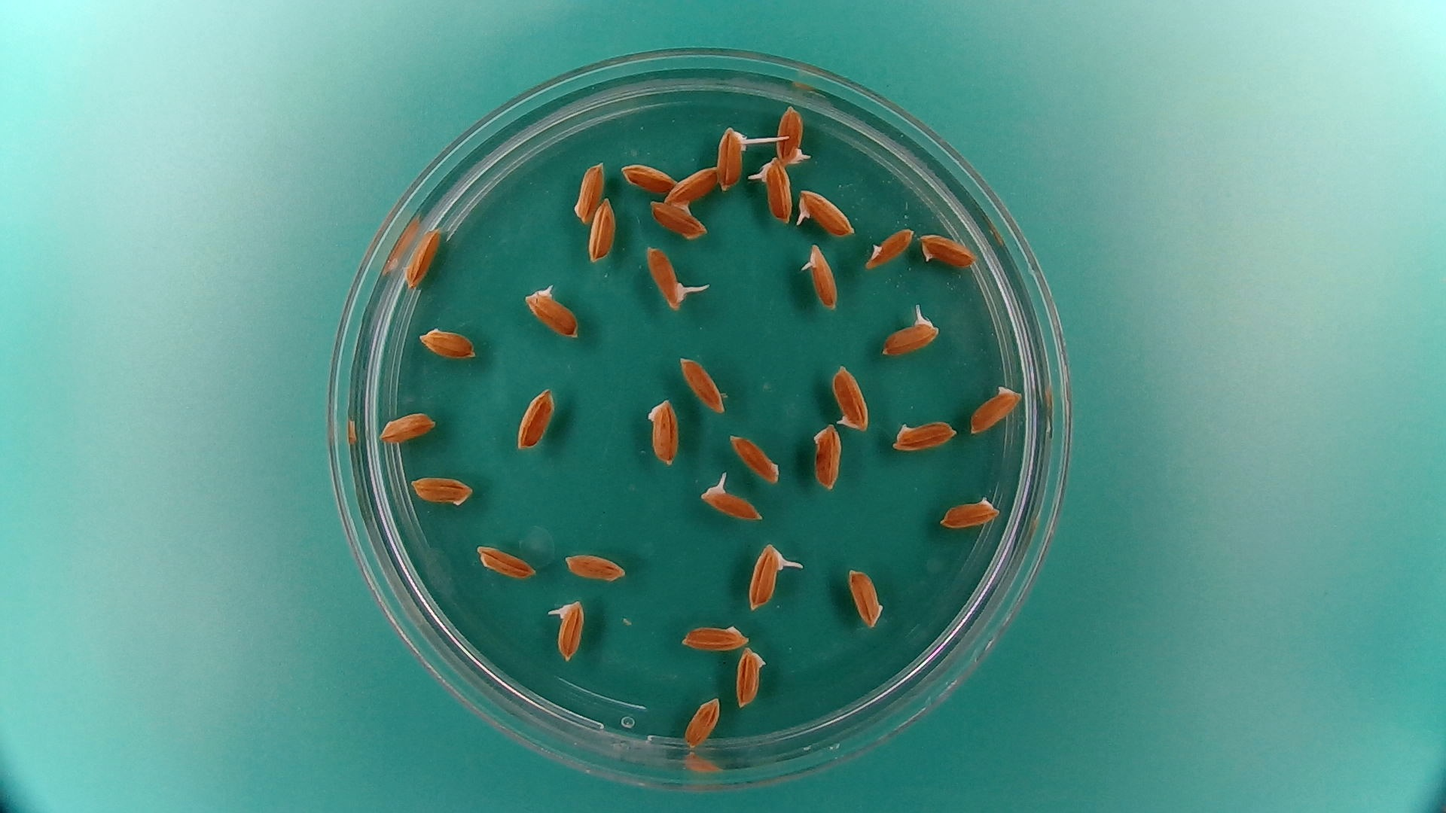no: (725, 431, 786, 485), (676, 353, 729, 415), (966, 382, 1025, 437), (829, 360, 872, 434), (404, 224, 449, 294), (512, 383, 557, 452), (404, 470, 478, 510), (845, 562, 888, 630), (645, 197, 710, 240), (937, 491, 1002, 533), (416, 321, 480, 362), (568, 157, 606, 226), (645, 399, 682, 469), (474, 541, 537, 582), (863, 225, 917, 272), (375, 407, 438, 447), (890, 416, 958, 453), (676, 620, 751, 653), (732, 644, 769, 710), (918, 229, 979, 269), (680, 694, 721, 752), (809, 422, 842, 493), (560, 549, 628, 583), (586, 193, 618, 265), (618, 159, 676, 196)
yes: (642, 242, 707, 312), (878, 303, 941, 358), (521, 288, 584, 341), (697, 474, 764, 523), (795, 187, 857, 239), (663, 163, 721, 214), (747, 542, 786, 611), (799, 246, 838, 312), (759, 154, 794, 223), (715, 126, 751, 192), (773, 102, 810, 165), (556, 593, 587, 660)
